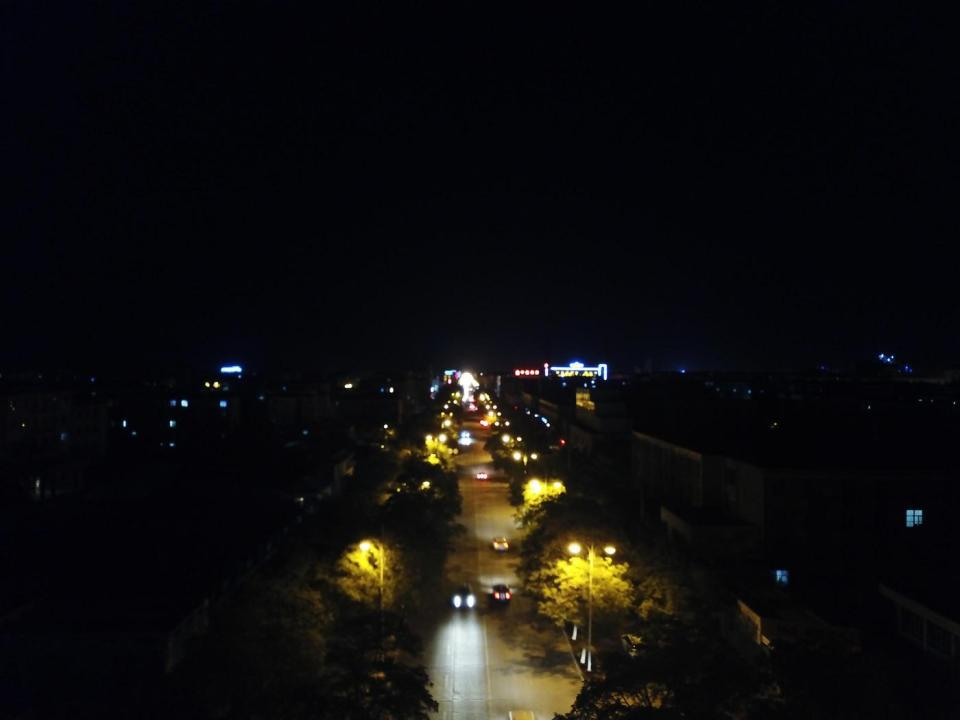car: (451, 584, 475, 610), (493, 583, 513, 605), (493, 536, 508, 551), (476, 472, 488, 480)
